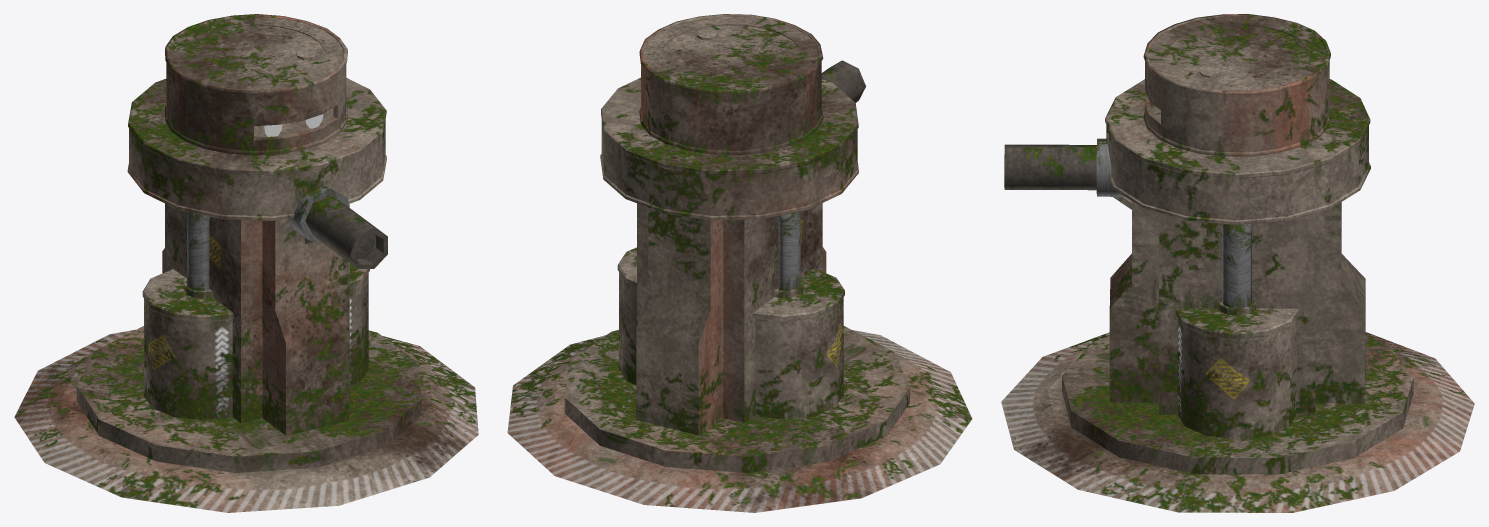
File: enemy_gun_model .fbx
The picture shows the model from 3 angles, left to right: view 1: azimuth 30°, elevation 25°; view 2: azimuth 150°, elevation 25°; view 3: azimuth 270°, elevation 25°; orthographic projection.
Visible parts, largest first — view 1: polySurface103, polySurface104; view 2: polySurface103, polySurface104; view 3: polySurface103, polySurface104.
Boxes of the visible parts, x1=… form: polySurface103: x1=76, y1=14, x2=421, y2=472; polySurface104: x1=14, y1=329, x2=478, y2=512; polySurface103: x1=564, y1=14, x2=909, y2=472; polySurface104: x1=507, y1=330, x2=972, y2=512; polySurface103: x1=1004, y1=14, x2=1413, y2=474; polySurface104: x1=1001, y1=332, x2=1474, y2=512.
Bounding box in the file's own units: 10.41 × 8.92 × 10.48.
2 materials, 1 textured.
